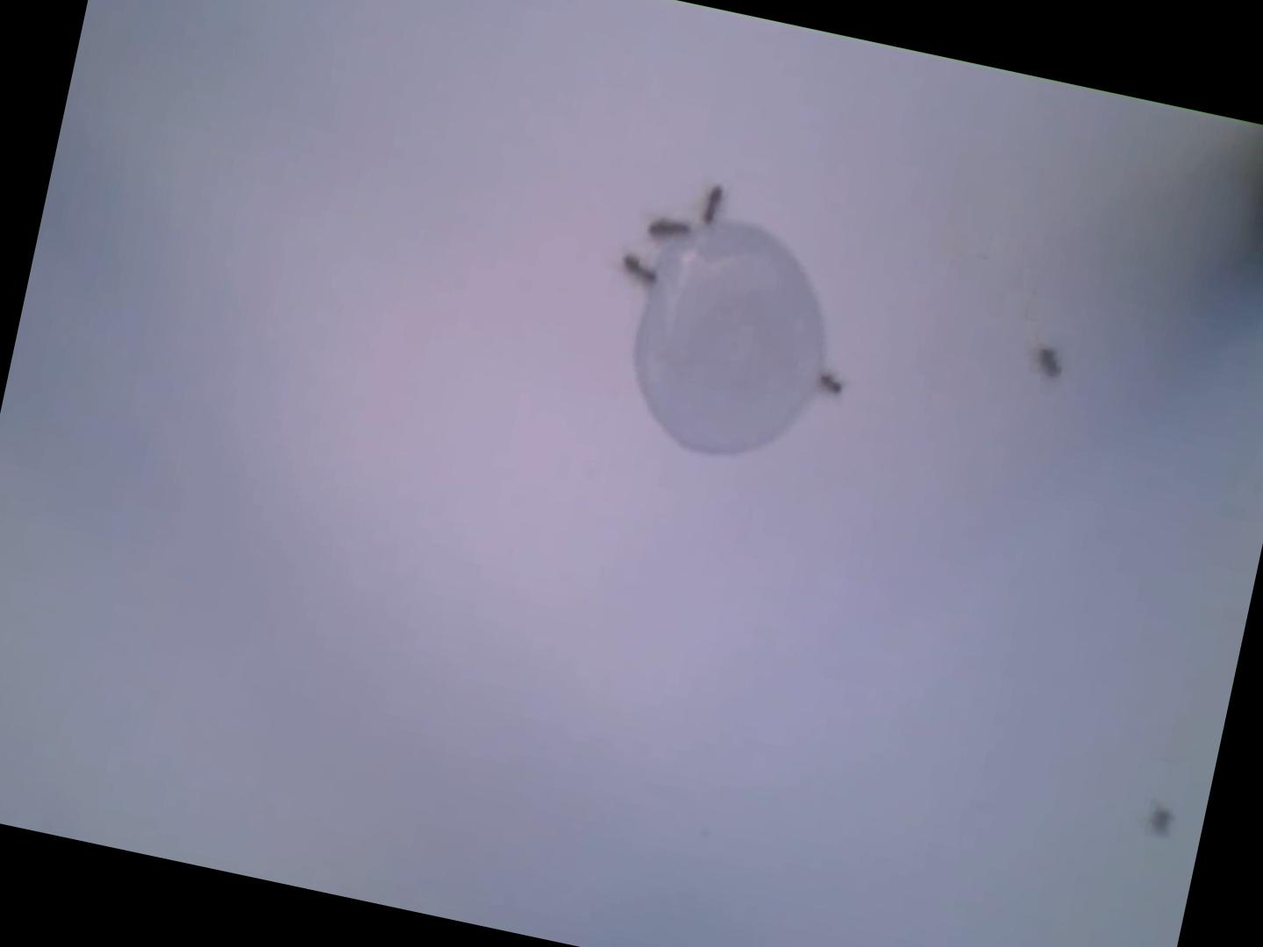Ant: (642, 214, 687, 246), (616, 255, 657, 287), (698, 183, 722, 226), (1030, 347, 1061, 378), (1145, 807, 1171, 837), (813, 371, 842, 396)
